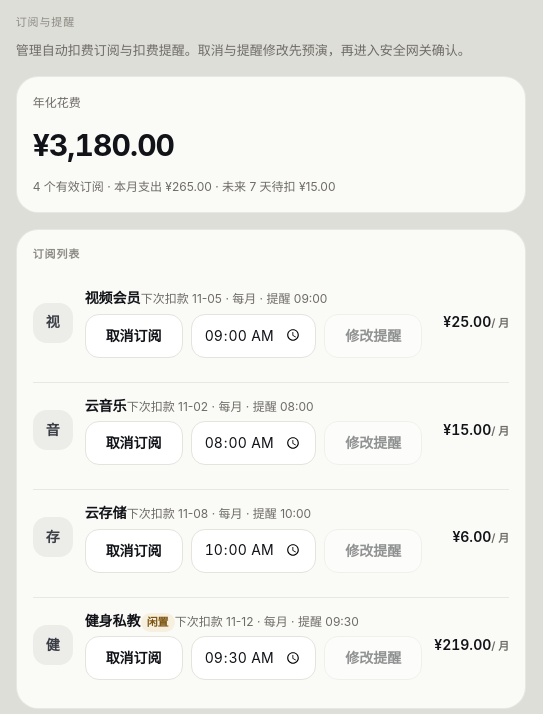
SubscriptionsPage › cancel PlanView failure shows visible error and retry
Expected: the text "视频会员" is shown, [85,289,141,306]
Click the button "取消订阅" below "视频会员" at [134, 336], box [85,314,183,358]
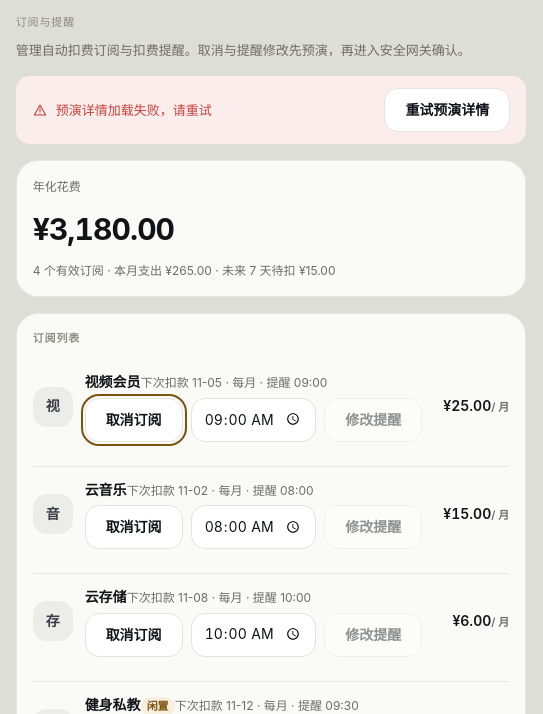
Expected: the text "预演详情加载失败，请重试" is shown, [56,102,212,118]
Expected: the button "重试预演详情" is shown, [384,88,510,132]
